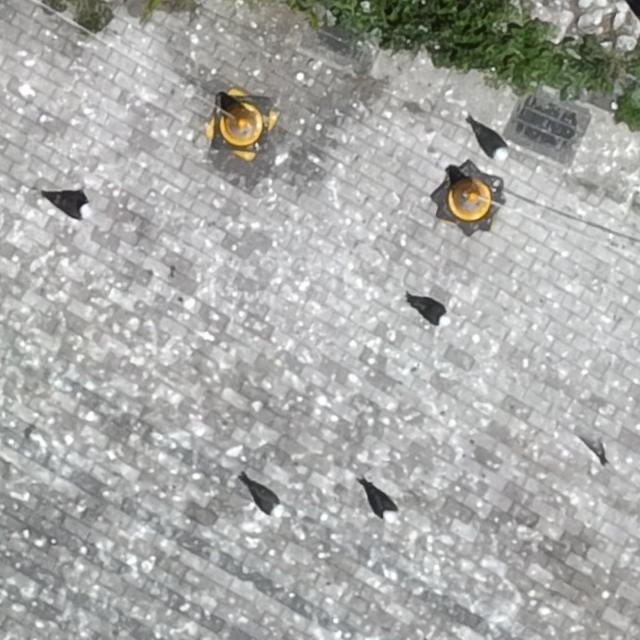umineko: (250, 484, 282, 518), (46, 193, 90, 216), (474, 126, 504, 157), (368, 488, 395, 521), (412, 300, 446, 324)
